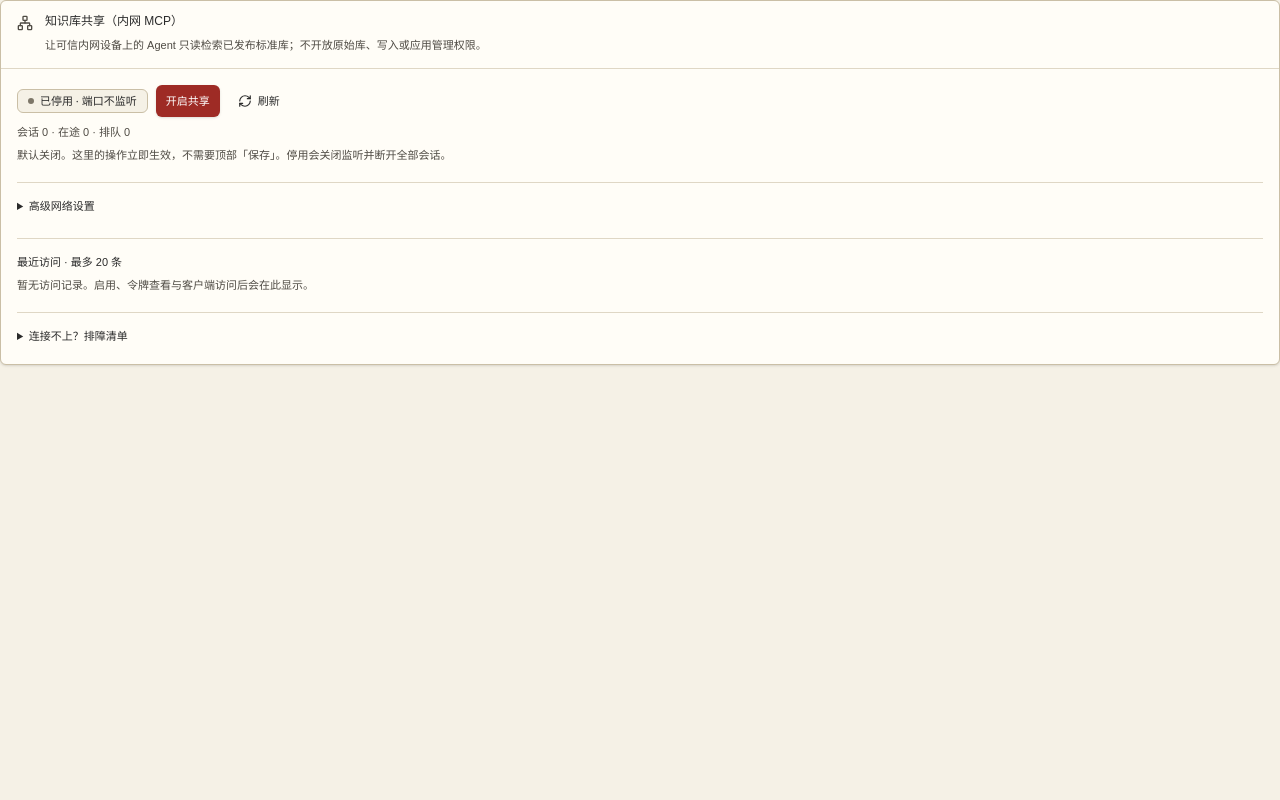
内网 MCP 设置交互（模拟管理 API） › 确认框焦点圈定、Escape 取消并回到触发控件
The image size is (1280, 800).
Click the button "开启共享" at (188, 101), box [156,85,220,117]
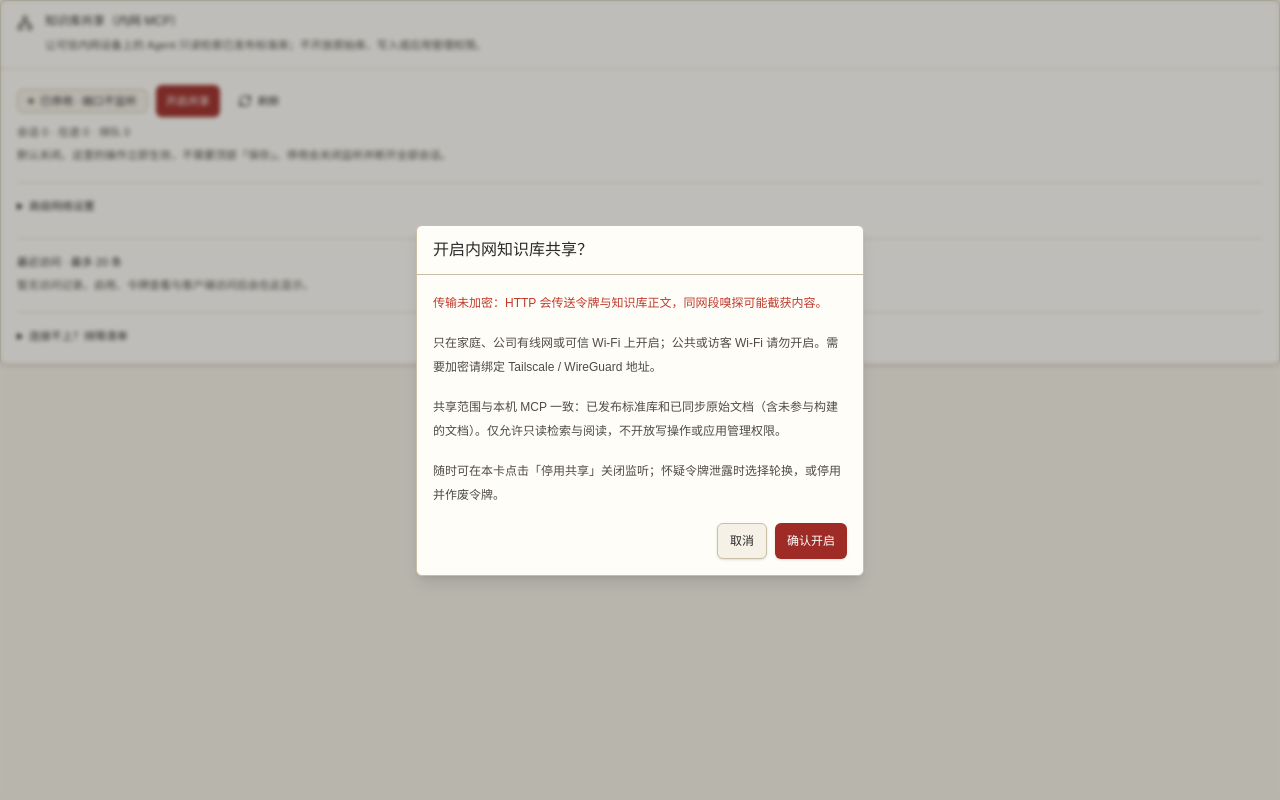
Press Tab in the button "确认开启", box [775,522,847,558]
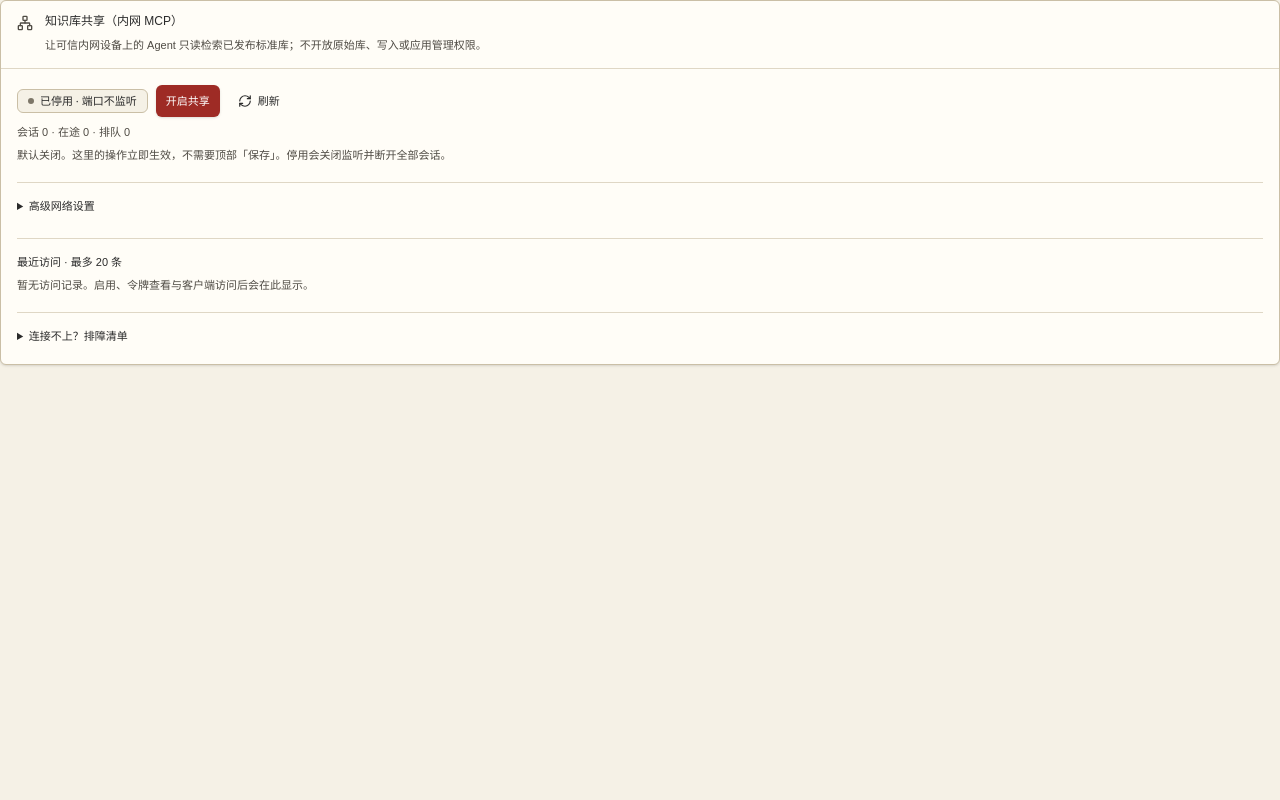
Check: the dialog is gone
